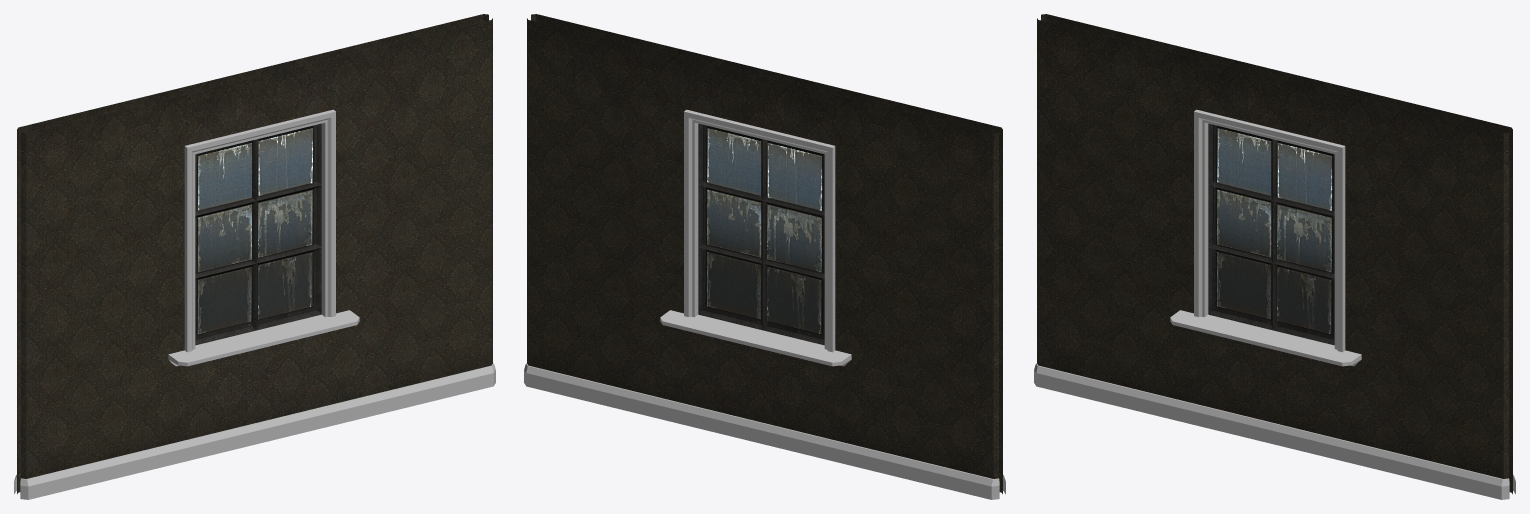
File: window_2_2_single.fbx
The picture shows the model from 3 angles, left to right: view 1: azimuth 30°, elevation 25°; view 2: azimuth 150°, elevation 25°; view 3: azimuth 330°, elevation 25°; orthographic projection.
Parts seen in each view (by area): view 1: window_2_2_single; view 2: window_2_2_single; view 3: window_2_2_single.
Boxes of the visible parts, x1,y1,x2,y2 form: window_2_2_single: (14,14,495,499); window_2_2_single: (524,14,1005,499); window_2_2_single: (1034,14,1515,499).
Bounding box in the file's own units: 4.09 × 0.52 × 3.
